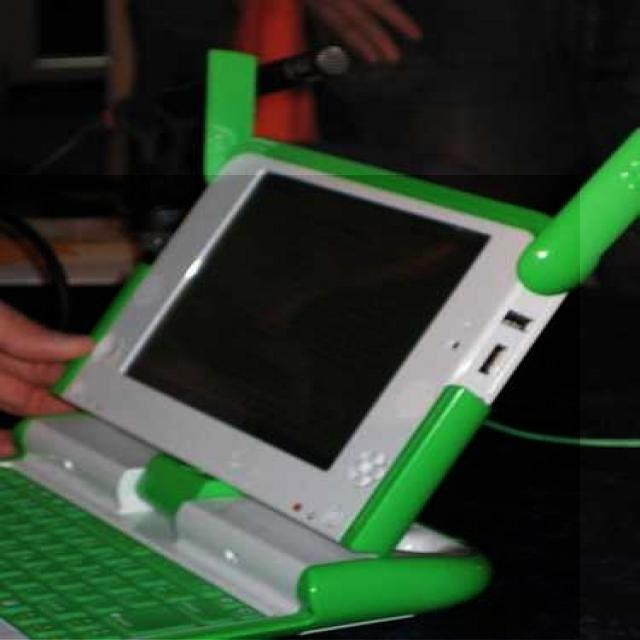-keyboard-: (0, 175, 580, 639)
